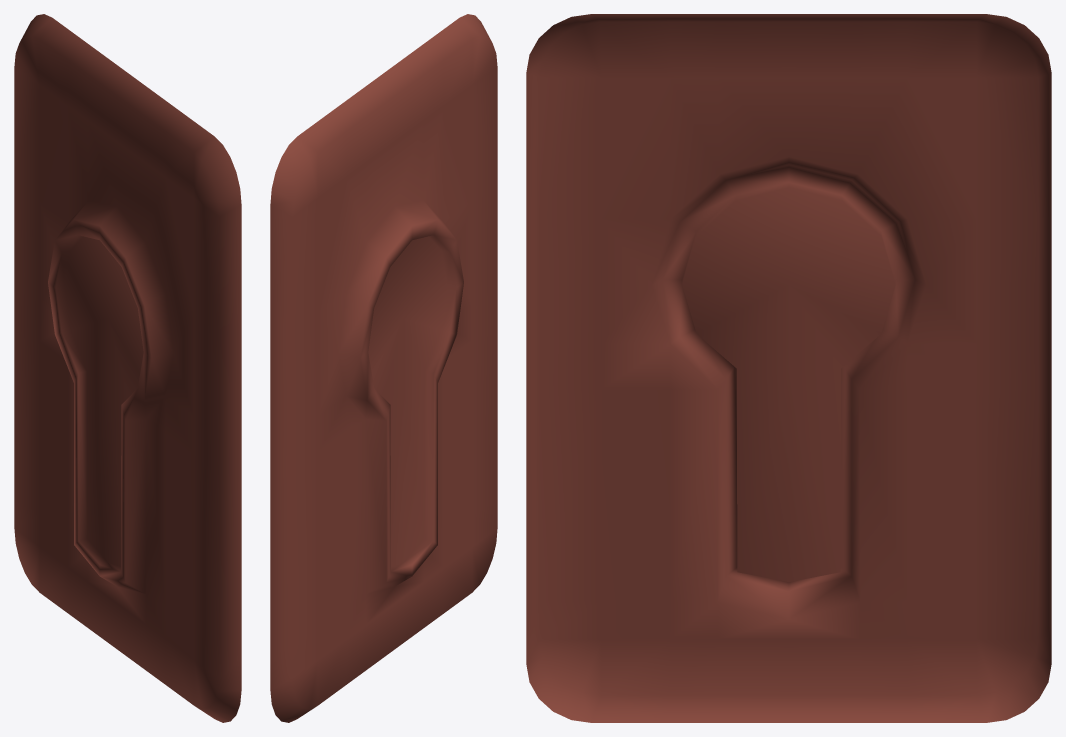
File: Chest_Small_Lock.fbx
3 renders of one model, left to right at view 1: azimuth 30°, elevation 25°; view 2: azimuth 150°, elevation 25°; view 3: azimuth 270°, elevation 25°, orthographic. The views are drawn at different scales.
Parts seen in each view (by area): view 1: Chest_Small_Lock; view 2: Chest_Small_Lock; view 3: Chest_Small_Lock.
Boxes of the visible parts, box(x1,y1,x2,y2) form: Chest_Small_Lock: box(14, 14, 241, 722); Chest_Small_Lock: box(270, 14, 497, 722); Chest_Small_Lock: box(526, 14, 1051, 722).
Bounding box in the file's own units: 0.6329 × 10.42 × 7.
